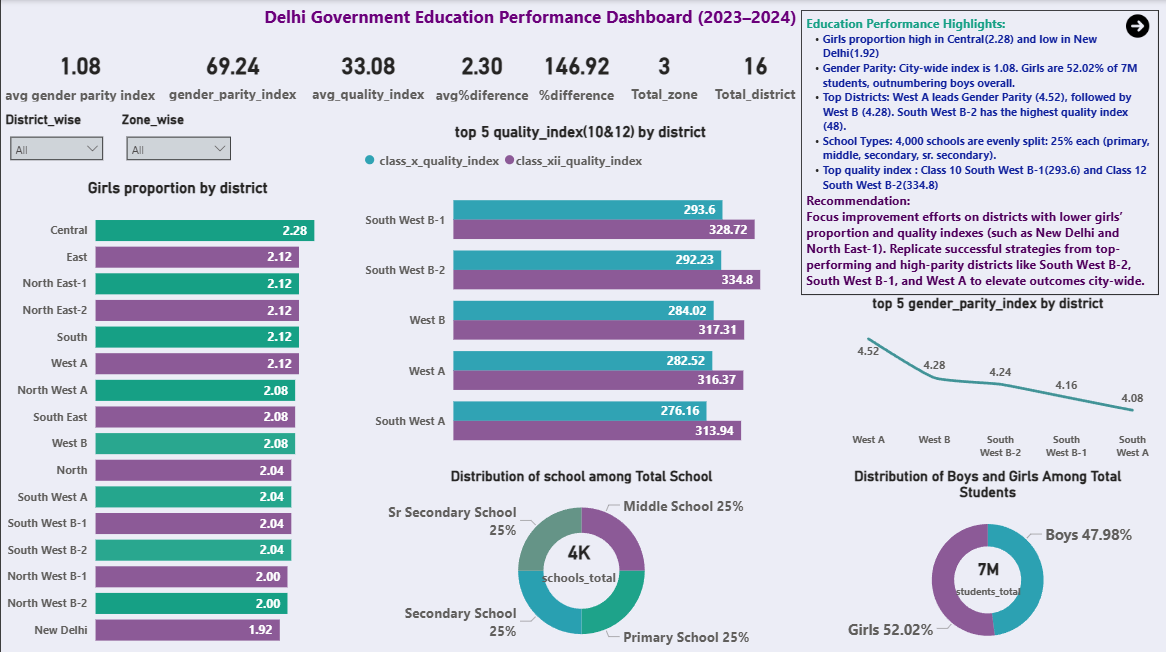

The dashboard page shown, as its layout file describes it:
{"tool":"powerbi","page":{"name":"Page 1","canvas":[1280,720],"ordinal":0},"visuals":[{"type":"donutChart","title":"Distribution of Boys and Girls Among Total Students","fields":{"Y":["Sum(education_final_data.no_of_students_boys)","Sum(education_final_data.no_of_students_girls)"]},"box":[886.5,513.2,393.8,207.2],"z":0},{"type":"card","fields":{"Values":["Sum(education_final_data.no_of_students_total)"]},"box":[1037.4,599.7,93.3,65.9],"z":1000},{"type":"donutChart","title":"Distribution of school among Total School","fields":{"Y":["CountNonNull(education_final_data.no_of_school)"],"Category":["education_final_data.school_type"]},"box":[388.3,513.2,498.1,207.2],"z":2000},{"type":"card","fields":{"Values":["Sum(education_final_data.no_of_schools_total)"]},"box":[575,575,119.4,81],"z":3000},{"type":"clusteredBarChart","title":"top 5 quality_index(10&12) by district","fields":{"Category":["education_final_data.district"],"Y":["Max(education_final_data.class_x_quality_index)","Max(education_final_data.class_xii_quality_index)"]},"box":[393.8,134.5,484.4,377.4],"z":4000},{"type":"clusteredBarChart","title":"Girls proportion by district","fields":{"Y":["Sum(education_final_data.proportion_girls)"],"Category":["education_final_data.district"]},"box":[0,196.2,388.3,524.2],"z":5000},{"type":"lineChart","title":"top 5 gender_parity_index by district","fields":{"Category":["education_final_data.district"],"Y":["Sum(education_final_data.gender_parity_index)"]},"box":[886.5,323.8,393.8,188],"z":6000},{"type":"card","fields":{"Values":["education_final_data.avg_gender_parity_index"]},"box":[0,46.7,174.3,70],"z":7000},{"type":"card","fields":{"Values":["education_final_data.avg_quality_index"]},"box":[334.8,46.7,137.2,68.6],"z":8000},{"type":"card","fields":{"Values":["Sum(education_final_data.pass_percentage_diff)"]},"box":[584.6,46.7,94.7,70],"z":9000},{"type":"card","fields":{"Values":["education_final_data.avg_pass_prcnt_diff_X&Xii"]},"box":[472,46.7,112.5,70],"z":10000},{"type":"card","fields":{"Values":["Sum(education_final_data.gender_parity_index)"]},"box":[174.3,46.7,160.5,68.6],"z":11000},{"type":"card","fields":{"Values":["Count(education_final_data.district)"]},"box":[778,46.7,100.2,68.6],"z":12000},{"type":"card","fields":{"Values":["Count(education_final_data.no_of_zone)"]},"box":[679.2,46.7,98.8,68.6],"z":13000},{"type":"slicer","title":"District_wise","fields":{"Values":["education_final_data.district"]},"box":[0,122.1,122.1,59],"z":14000},{"type":"slicer","title":"Zone_wise","fields":{"Values":["education_final_data.no_of_zone"]},"box":[127.6,122.1,134.5,59],"z":15000},{"type":"textbox","box":[878.2,11,392.5,312.9],"z":16000},{"type":"textbox","box":[255,0,594,47],"z":17000},{"type":"image","box":[1225.4,11,45.3,35.7],"z":18000}]}

Visuals, with their boxes in screenshot pixels (x1, y1, x2, y2), scaled from the page's 1280x720 canvas onto the 1166x652 screenshot:
"Distribution of Boys and Girls Among Total Students" donutChart: 808/465/1165/651
card - Sum(education_final_data.no_of_students_total): 945/543/1030/603
"Distribution of school among Total School" donutChart: 354/465/807/651
card - Sum(education_final_data.no_of_schools_total): 524/521/633/594
"top 5 quality_index(10&12) by district" clusteredBarChart: 359/122/800/464
"Girls proportion by district" clusteredBarChart: 0/178/354/651
"top 5 gender_parity_index by district" lineChart: 808/293/1165/463
card - education_final_data.avg_gender_parity_index: 0/42/159/106
card - education_final_data.avg_quality_index: 305/42/430/104
card - Sum(education_final_data.pass_percentage_diff): 533/42/619/106
card - education_final_data.avg_pass_prcnt_diff_X&Xii: 430/42/532/106
card - Sum(education_final_data.gender_parity_index): 159/42/305/104
card - Count(education_final_data.district): 709/42/800/104
card - Count(education_final_data.no_of_zone): 619/42/709/104
"District_wise" slicer: 0/111/111/164
"Zone_wise" slicer: 116/111/239/164
textbox: 800/10/1158/293
textbox: 232/0/773/43
image: 1116/10/1158/42
